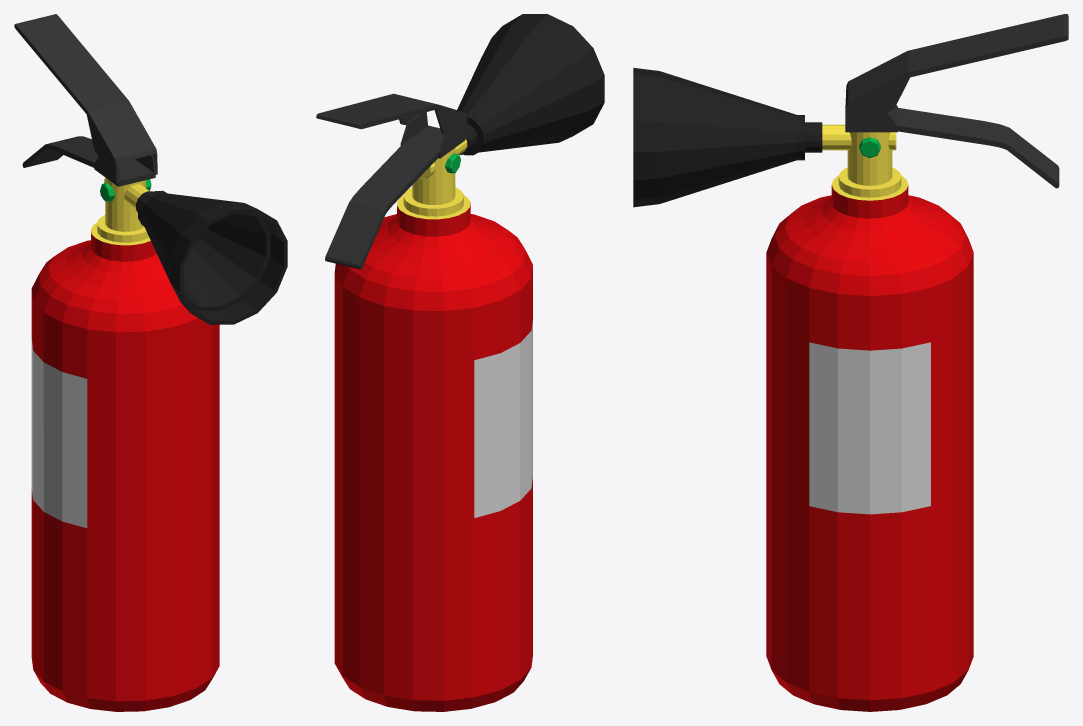
Rendered from extinguisher.fbx.
3 renders of one model, left to right at view 1: azimuth 30°, elevation 25°; view 2: azimuth 150°, elevation 25°; view 3: azimuth 270°, elevation 25°, orthographic. The views are drawn at different scales.
Parts seen in each view (by area): view 1: Base, Handle; view 2: Base, Handle; view 3: Base, Handle.
Part boxes in pixels (x1,y1,x2,y2): Base: [22, 136, 287, 711]; Handle: [14, 14, 157, 184]; Base: [325, 14, 604, 711]; Handle: [316, 93, 467, 138]; Base: [633, 68, 1059, 711]; Handle: [845, 14, 1068, 130].
Size of the model in its own units: 16.17 by 56.61 by 34.
Materials: 1 (1 with a texture image).
